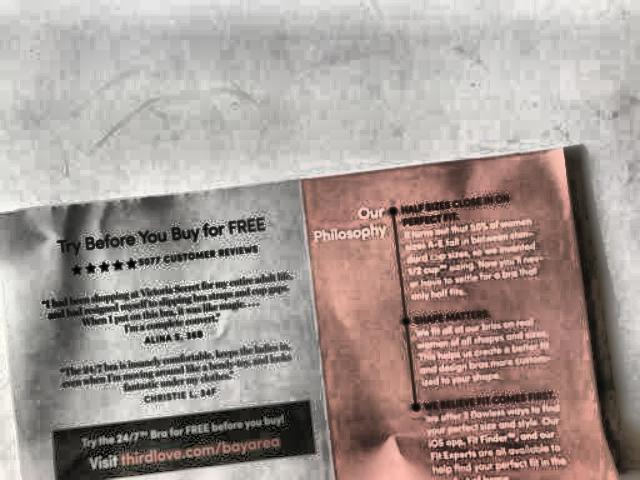Paper: (0, 146, 619, 480)
